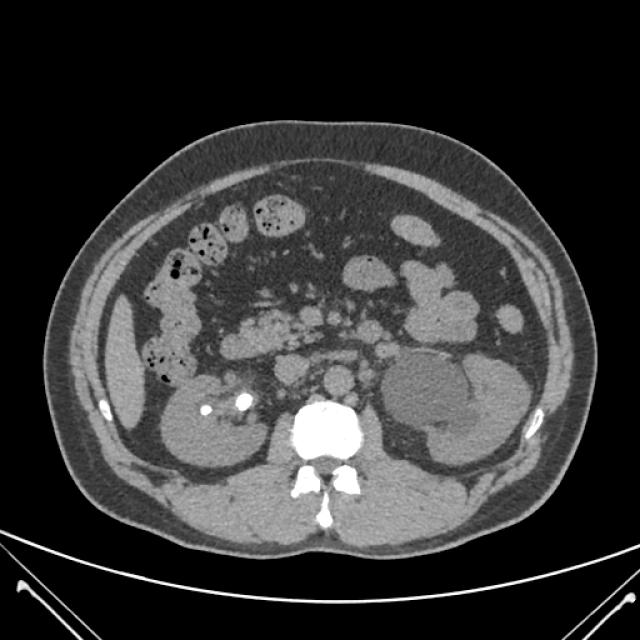kidneystone: (235, 392, 254, 411), (200, 404, 212, 416)
